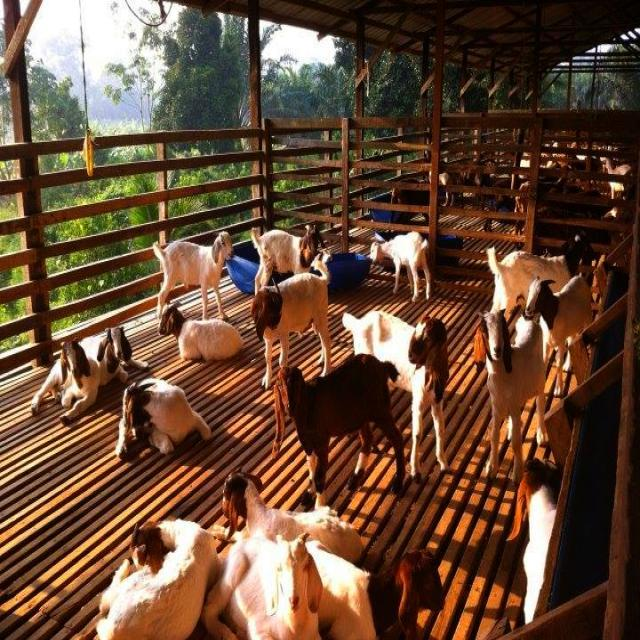Goat: (272, 352, 407, 508), (342, 308, 451, 481), (96, 517, 220, 639), (223, 468, 366, 564), (252, 249, 334, 390), (507, 457, 563, 625), (116, 375, 213, 459), (153, 230, 235, 321), (251, 221, 325, 295), (159, 303, 244, 362), (370, 230, 435, 302)
